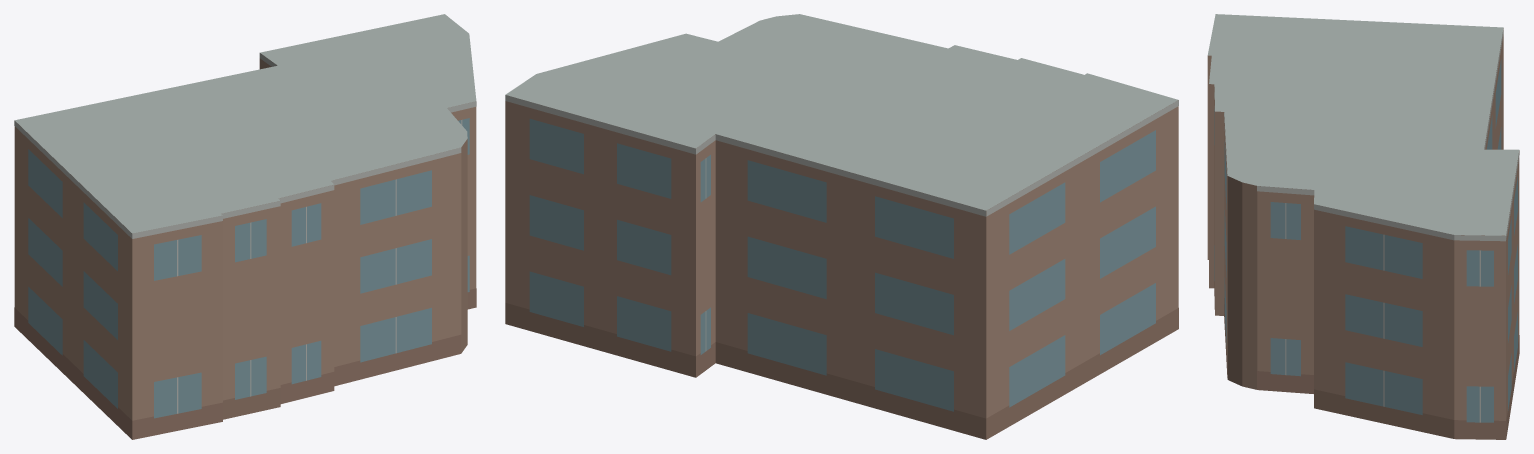
File: survey-upis-32527419.glb
The picture shows the model from 3 angles, left to right: view 1: azimuth 30°, elevation 25°; view 2: azimuth 150°, elevation 25°; view 3: azimuth 270°, elevation 25°; orthographic projection. The views are drawn at different scales.
Visible parts, largest first — view 1: survey-upis-32527419.tmp; view 2: survey-upis-32527419.tmp; view 3: survey-upis-32527419.tmp.
Boxes of the visible parts, box(x1,y1,x2,y2) form: survey-upis-32527419.tmp: box(14, 14, 476, 439); survey-upis-32527419.tmp: box(505, 14, 1178, 439); survey-upis-32527419.tmp: box(1207, 14, 1519, 439).
Bounding box in the file's own units: 21.34 × 9.15 × 12.68.
